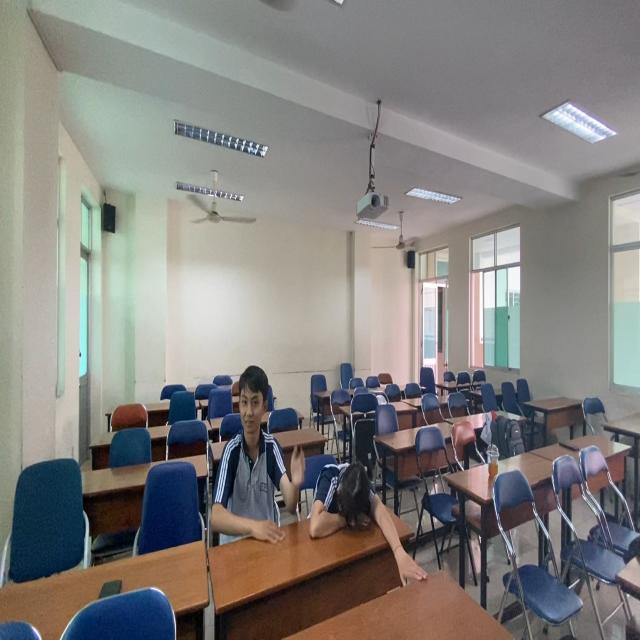sleep: (307, 446, 406, 561)
